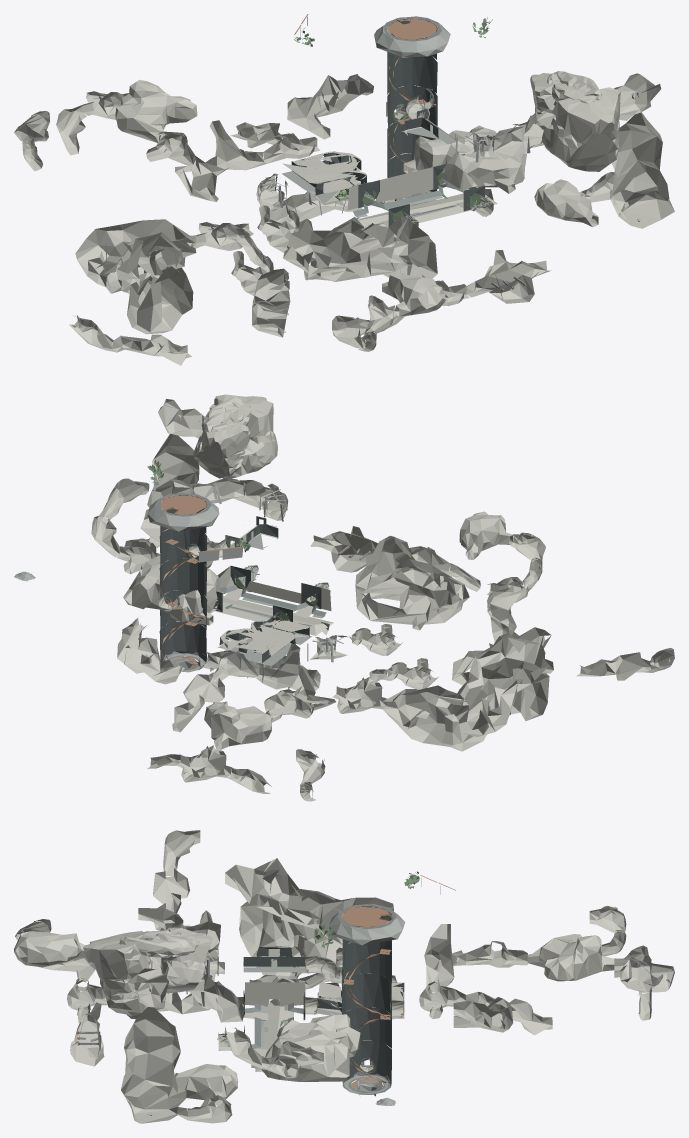
Rendered from cave_large_sewers_hard-map.glb.
3 renders of one model, top to bottom at view 1: azimuth 30°, elevation 25°; view 2: azimuth 150°, elevation 25°; view 3: azimuth 270°, elevation 25°, orthographic. The views are drawn at different scales.
Visible parts, largest first — view 1: rock_formation_huge_a_LOD0, sewer_chimney, large_vent_LOD0, sewer_chimney_top_LOD0, LOD0; view 2: rock_formation_huge_a_LOD0, sewer_chimney, large_vent_LOD0, sewer_chimney_top_LOD0, LOD0; view 3: rock_formation_huge_a_LOD0, sewer_chimney, large_vent_LOD0, sewer_chimney_top_LOD0, LOD0.
Part boxes in pixels (x1,y1,x2,y2): rock_formation_huge_a_LOD0: (14,71,674,365); sewer_chimney: (291,18,484,226); large_vent_LOD0: (257,14,640,291); sewer_chimney_top_LOD0: (353,16,488,224); LOD0: (294,17,493,222); rock_formation_huge_a_LOD0: (91,394,674,801); sewer_chimney: (159,495,321,669); large_vent_LOD0: (14,414,370,688); sewer_chimney_top_LOD0: (155,493,326,670); LOD0: (147,460,328,662); rock_formation_huge_a_LOD0: (14,830,674,1123); sewer_chimney: (243,906,404,1082); large_vent_LOD0: (77,875,455,1115); sewer_chimney_top_LOD0: (245,904,396,1094); LOD0: (218,871,419,1073).
Size of the model in its own units: 167 by 54.84 by 160.
